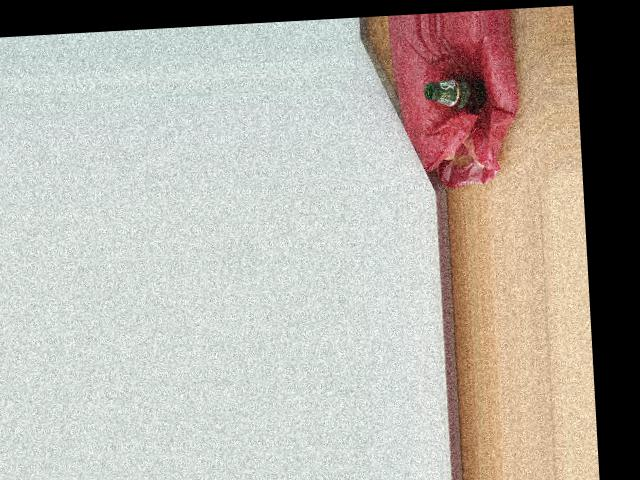beer: (424, 73, 487, 112)
